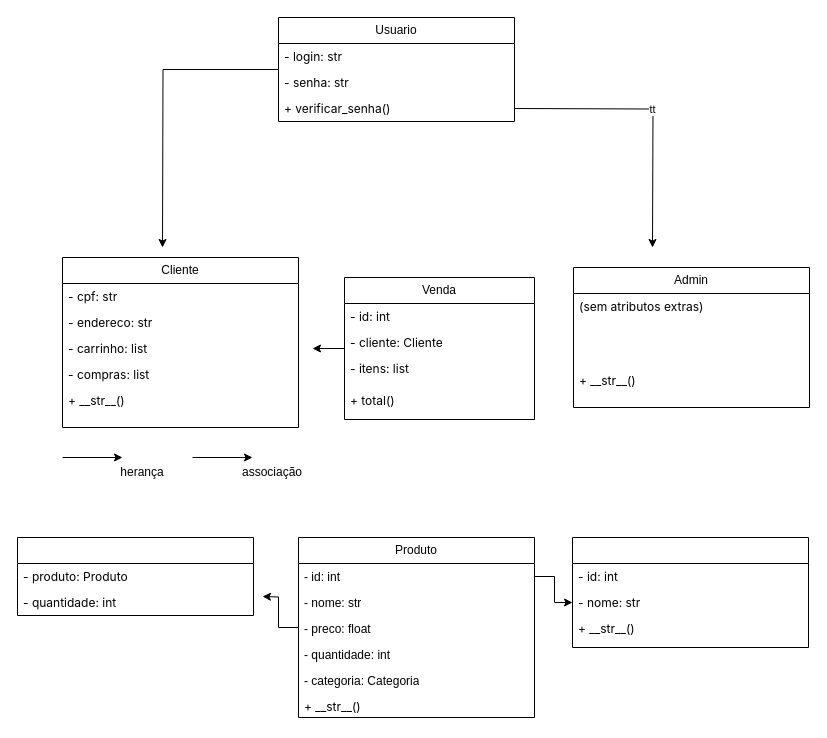
This 827x738 diagram has some shape labels left out. Each missing label, with the box of its shape:
Categoria: (572, 536, 808, 648)
ItemCarrinho: (16, 536, 254, 616)
